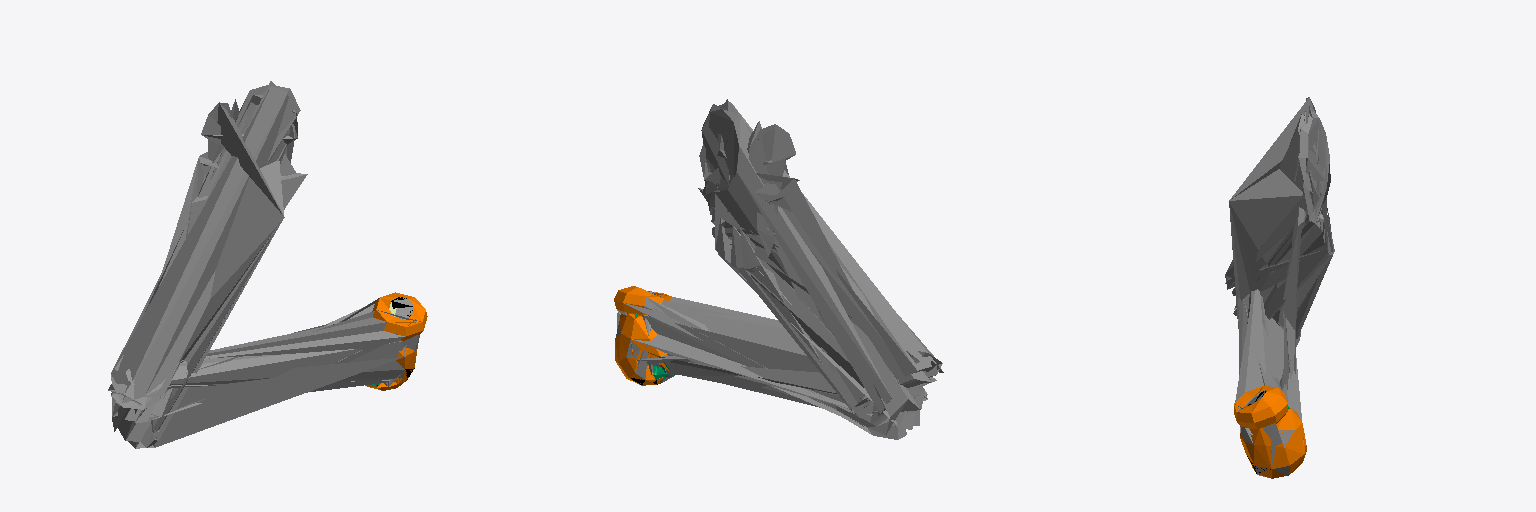
The model's file is Blinky.obj.
The picture shows the model from 3 angles: view 1: azimuth 30°, elevation 25°; view 2: azimuth 150°, elevation 25°; view 3: azimuth 270°, elevation 25°; orthographic projection.
Parts seen in each view (by area): view 1: blinky; view 2: blinky; view 3: blinky.
Part boxes in pixels (x1,y1,x2,y2): blinky: (108, 81, 427, 448); blinky: (614, 99, 943, 439); blinky: (1225, 97, 1334, 478).
Bounding box in the file's own units: 8.31 × 7.98 × 2.49.